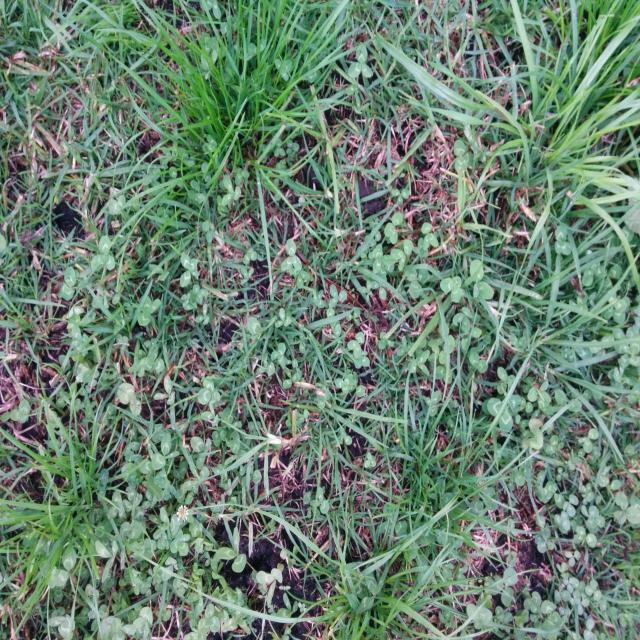Four Leaf Clover: (180, 252, 200, 287)
